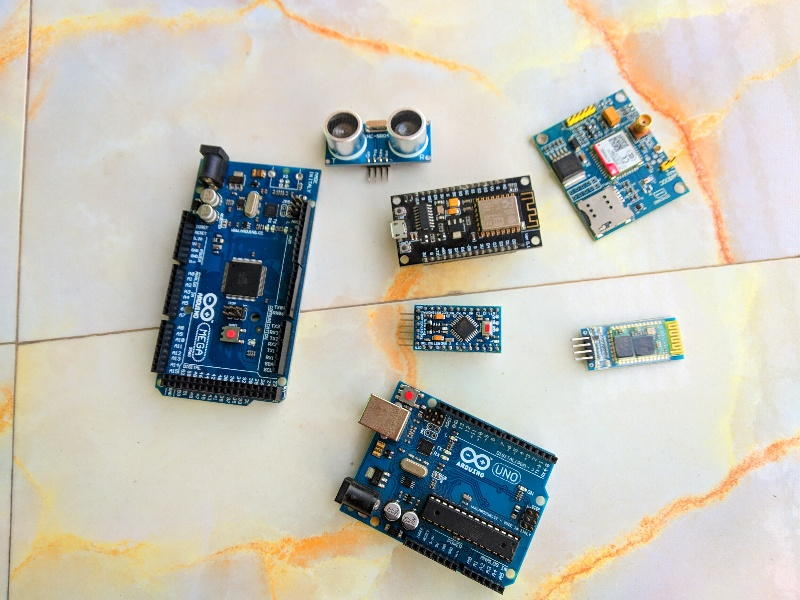Arduino Mega 2560: (143, 135, 330, 419)
Arduino Pro Mini: (411, 301, 511, 358)
Arduino UNO: (332, 377, 564, 595)
HC-05: (578, 313, 689, 376)
NodeMCU: (387, 172, 545, 267)
SIM800: (531, 85, 695, 246)
Sonar Sensor: (316, 103, 440, 174)
